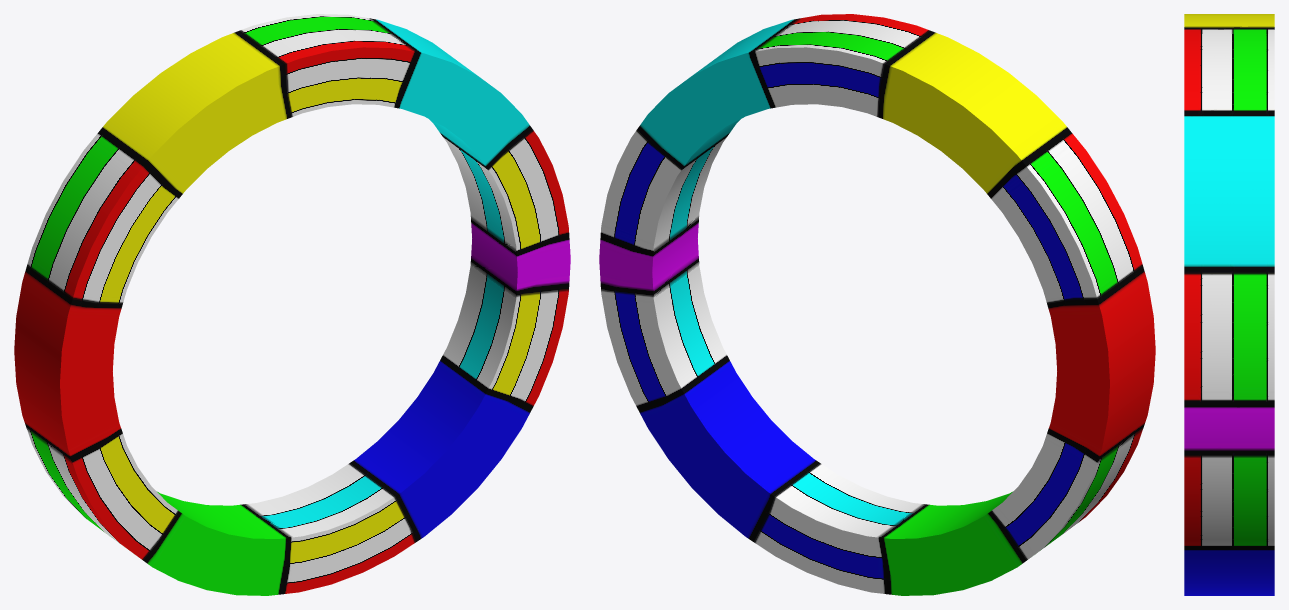
The model's file is Pipe.fbx.
3 renders of one model, left to right at view 1: azimuth 30°, elevation 25°; view 2: azimuth 150°, elevation 25°; view 3: azimuth 270°, elevation 25°, orthographic.
Parts seen in each view (by area): view 1: pPipe1; view 2: pPipe1; view 3: pPipe1.
Boxes of the visible parts, <box> form: pPipe1: <box>14,14,570,595</box>; pPipe1: <box>599,14,1155,595</box>; pPipe1: <box>1184,14,1274,595</box>.
Size of the model in its own units: 16 by 15.97 by 2.48.
Materials: 1 (1 with a texture image).
